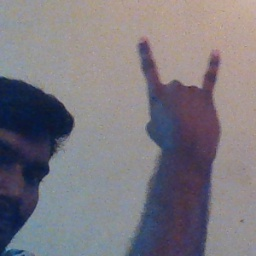V: (134, 33, 227, 153)
